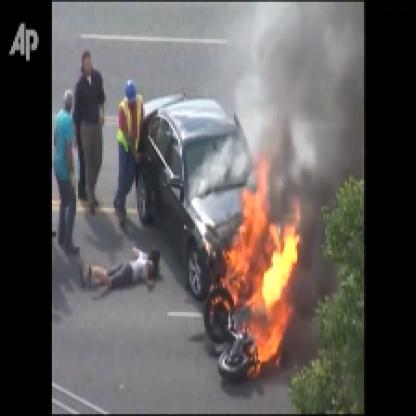Fire: (212, 152, 301, 381)
Smoke: (243, 2, 362, 173)
